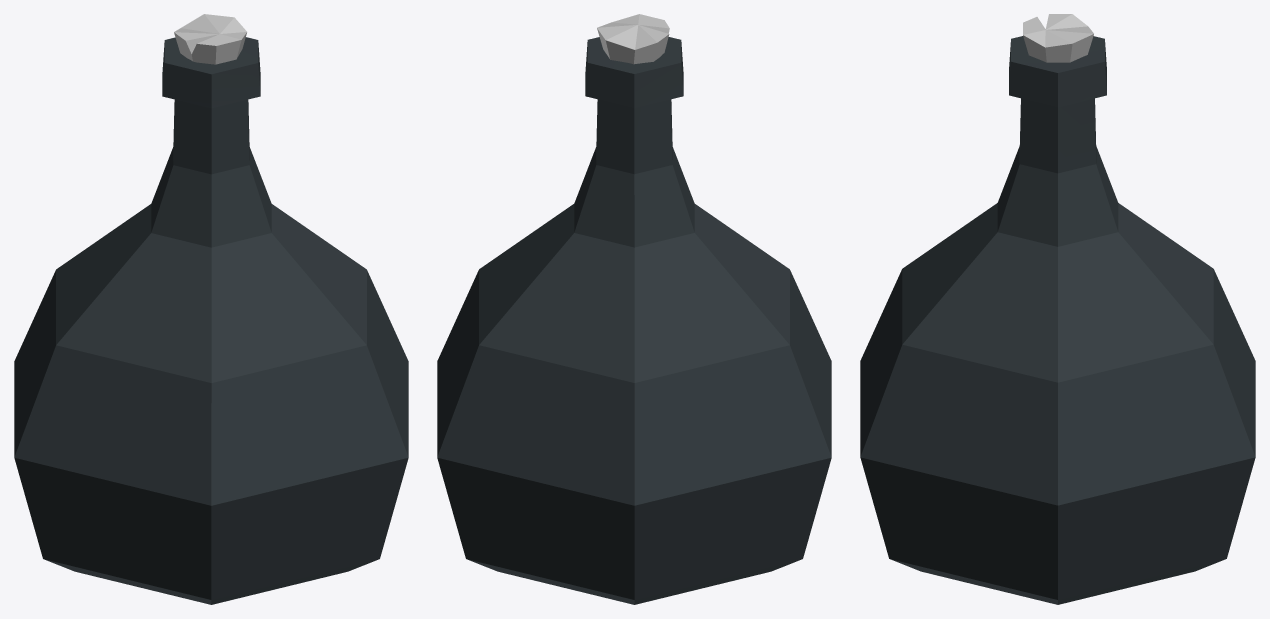
Rendered from RumBottle.fbx.
3 views of the same model, side by side, from view 1: azimuth 30°, elevation 25°; view 2: azimuth 150°, elevation 25°; view 3: azimuth 270°, elevation 25° (orthographic).
Visible parts, largest first — view 1: SM_Item_Bottle_14; view 2: SM_Item_Bottle_14; view 3: SM_Item_Bottle_14.
Part boxes in pixels (left/top/right/bottom): SM_Item_Bottle_14: left=14, top=14, right=408, bottom=604; SM_Item_Bottle_14: left=437, top=14, right=831, bottom=604; SM_Item_Bottle_14: left=860, top=14, right=1255, bottom=604.
Size of the model in its own units: 31.48 by 38.77 by 27.26.
